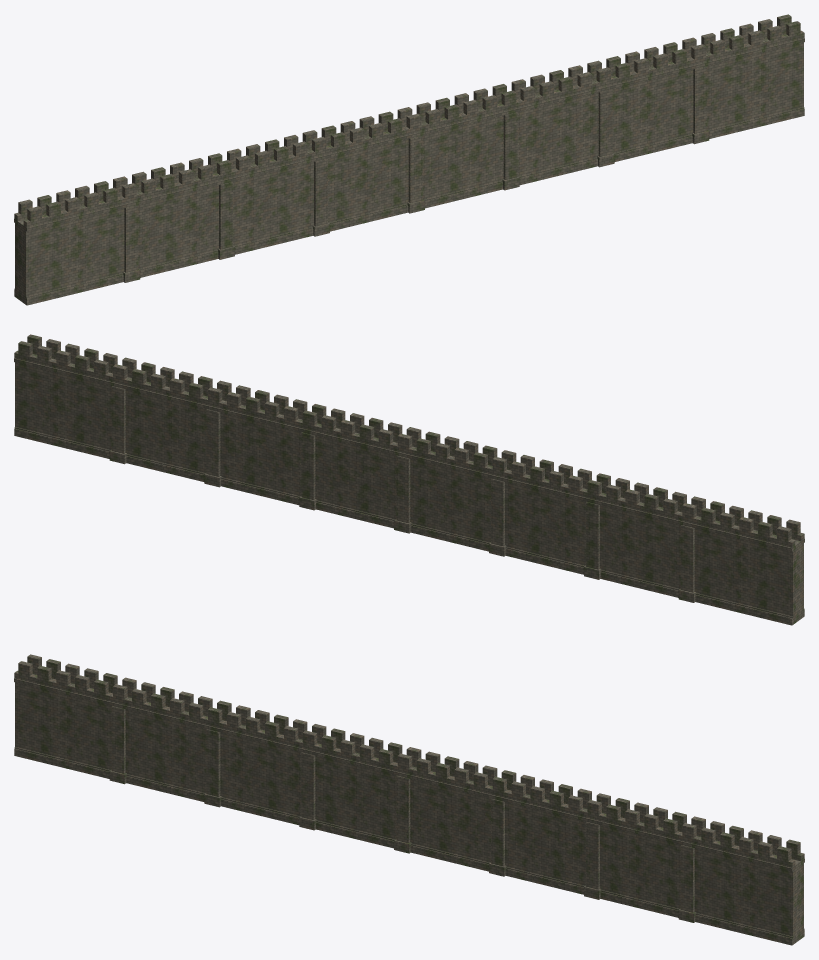
The model's file is castle_wall.glb.
3 views of the same model, one above another, from view 1: azimuth 30°, elevation 25°; view 2: azimuth 150°, elevation 25°; view 3: azimuth 330°, elevation 25° (orthographic).
Visible parts, largest first — view 1: castle_wall; view 2: castle_wall; view 3: castle_wall.
Boxes of the visible parts, x1,y1,x2,y2 form: castle_wall: [14, 14, 804, 305]; castle_wall: [14, 334, 804, 625]; castle_wall: [14, 654, 804, 945].
Bounding box in the file's own units: 82 × 9.4 × 2.84.
Materials: 1 (1 with a texture image).
